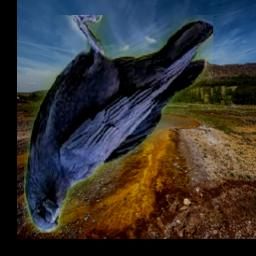Crow: (24, 16, 213, 234)
